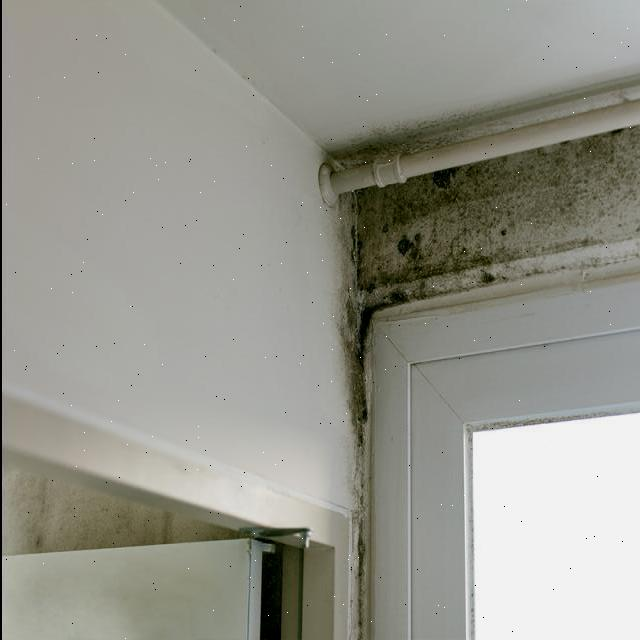dampens: (330, 166, 640, 341)
